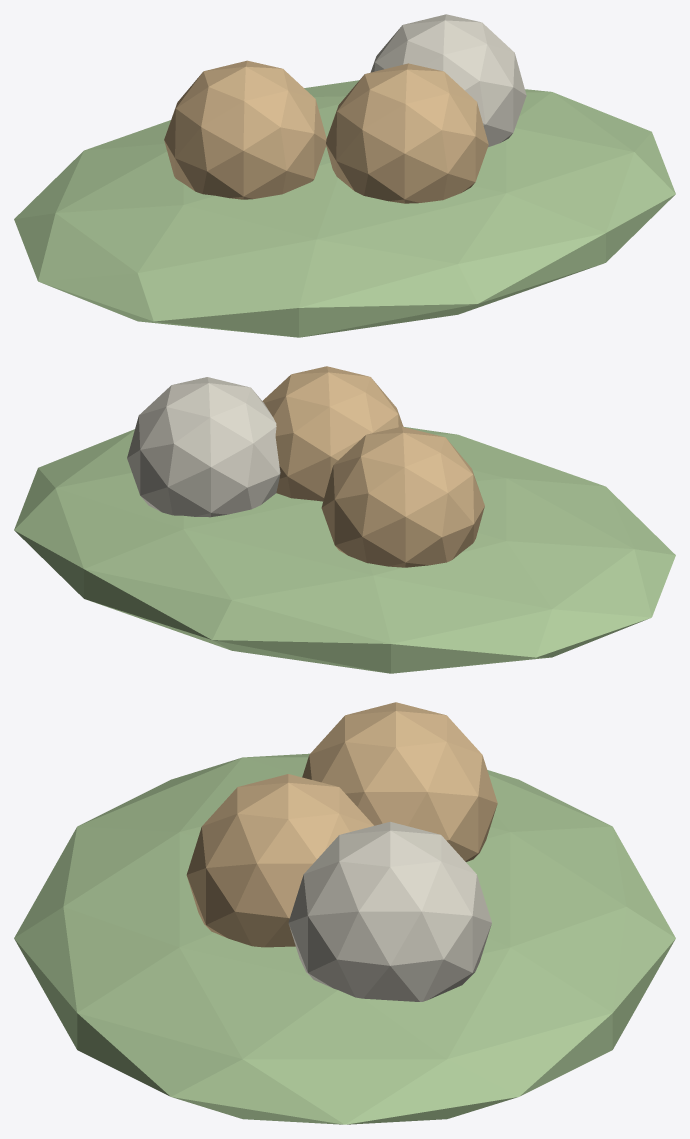
Rendered from cache_leaf.glb.
3 views of the same model, one above another, from view 1: azimuth 30°, elevation 25°; view 2: azimuth 150°, elevation 25°; view 3: azimuth 270°, elevation 25° (orthographic). The views are drawn at different scales.
Parts seen in each view (by area): view 1: Cradle, Resource_1, Resource_0, Resource_2; view 2: Cradle, Resource_0, Resource_2, Resource_1; view 3: Cradle, Resource_2, Resource_1, Resource_0.
Boxes of the visible parts, left/top/right/bottom form: Cradle: left=14, top=80, right=675, bottom=337; Resource_1: left=326, top=63, right=488, bottom=203; Resource_0: left=164, top=60, right=326, bottom=199; Resource_2: left=370, top=14, right=526, bottom=147; Cradle: left=14, top=427, right=675, bottom=673; Resource_0: left=321, top=426, right=484, bottom=567; Resource_2: left=127, top=377, right=280, bottom=517; Resource_1: left=262, top=366, right=403, bottom=501; Cradle: left=14, top=753, right=675, bottom=1124; Resource_2: left=288, top=821, right=491, bottom=1001; Resource_1: left=186, top=774, right=373, bottom=947; Resource_0: left=302, top=702, right=497, bottom=861.
Size of the model in its own units: 1.56 by 0.467 by 1.17.
